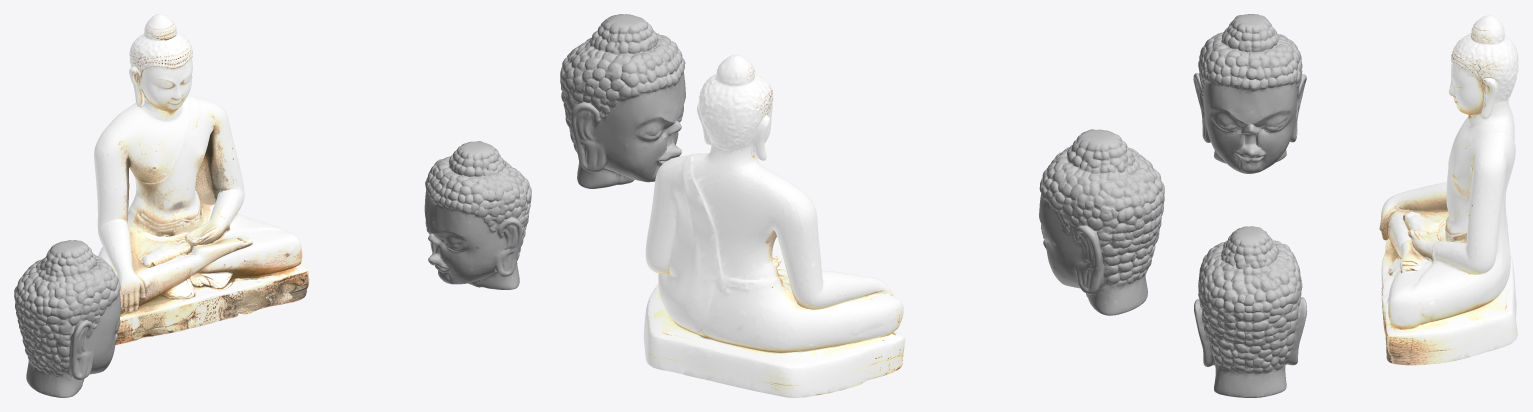
The picture shows the model from 3 angles, left to right: view 1: azimuth 30°, elevation 25°; view 2: azimuth 150°, elevation 25°; view 3: azimuth 270°, elevation 25°; orthographic projection. The views are drawn at different scales.
Parts seen in each view (by area): view 1: buddha, Head1, Head2; view 2: buddha, Head1, Head2; view 3: buddha, Head2, Head1.
Boxes of the visible parts, x1,y1,x2,y2 form: buddha: [94, 14, 309, 344]; Head1: [14, 240, 121, 397]; Head2: [424, 141, 531, 289]; buddha: [643, 54, 905, 397]; Head1: [1039, 129, 1164, 315]; Head2: [560, 14, 685, 188]; buddha: [1379, 15, 1518, 365]; Head2: [1194, 226, 1307, 397]; Head1: [1193, 14, 1306, 173].
Size of the model in its own units: 7.65 by 3.99 by 3.97.
